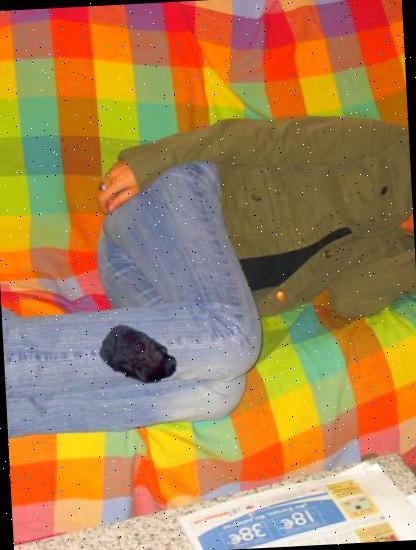Dates: (97, 314, 181, 399)
